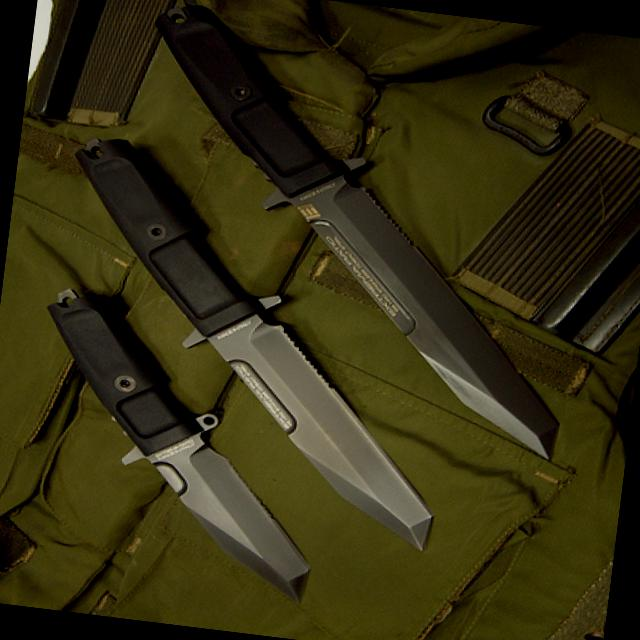knife: (275, 177, 589, 464), (190, 313, 456, 559), (124, 436, 332, 614)
